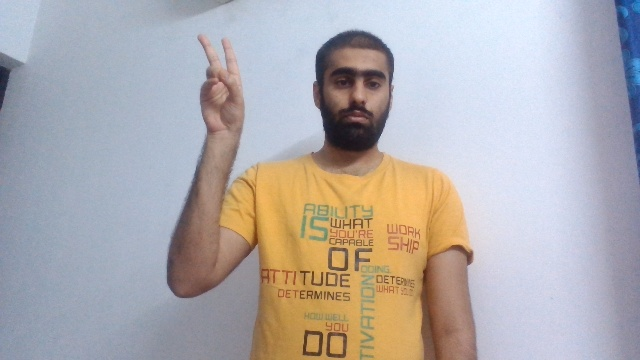scissors: (194, 33, 246, 135)
